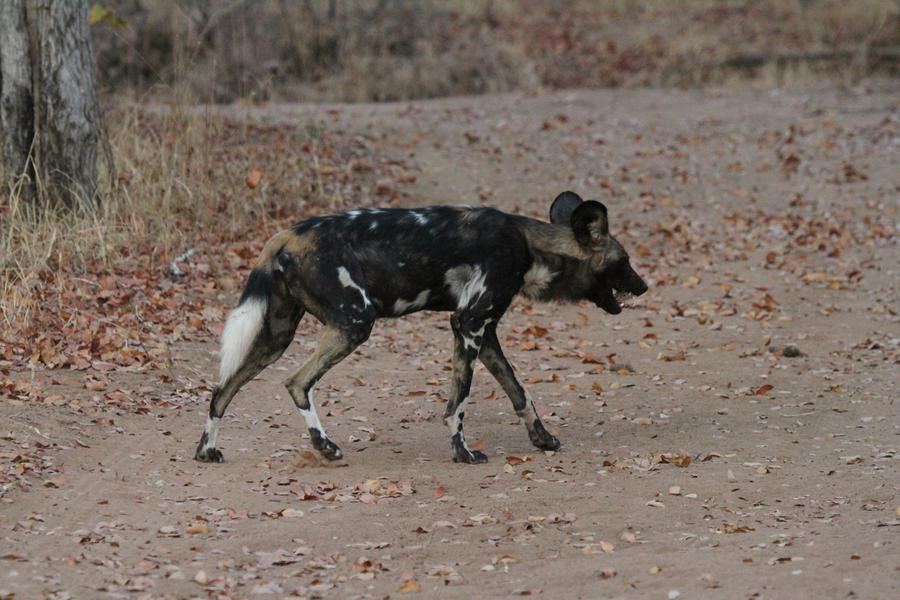wilddog: (232, 182, 643, 374)
